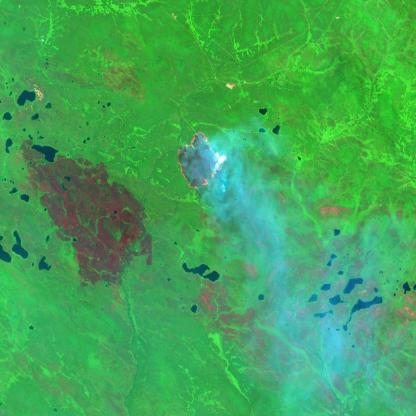fire: (172, 126, 227, 197)
